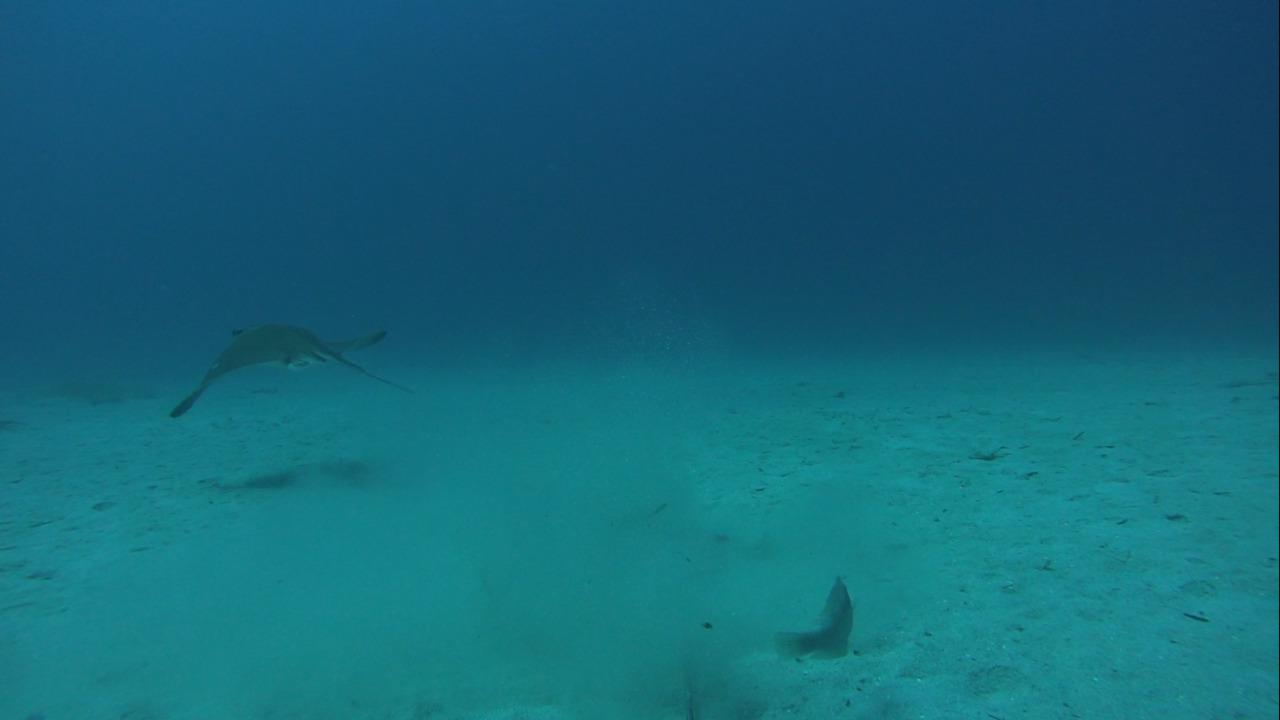myliobatis: (158, 307, 430, 428)
raor: (764, 573, 858, 668)
